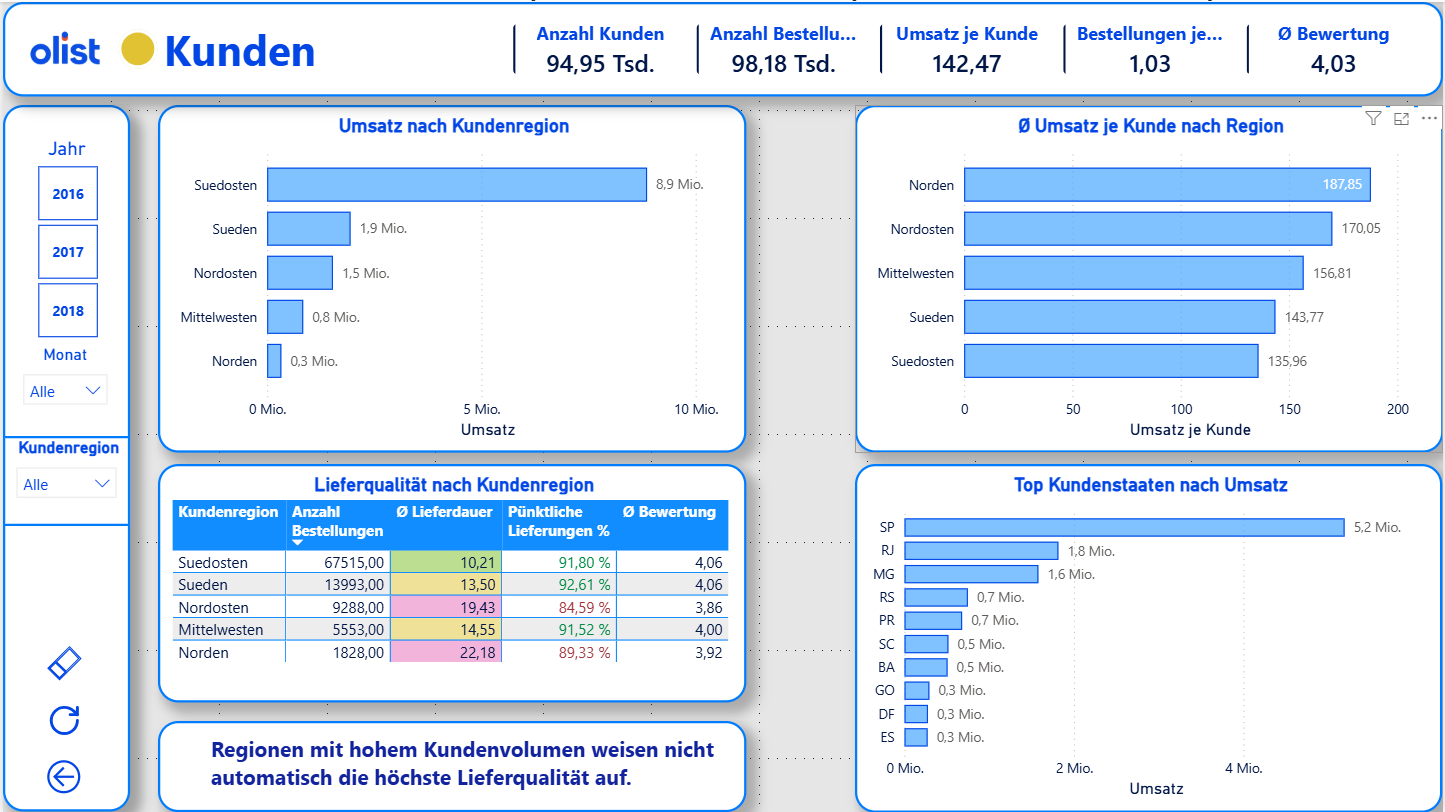

The page's visual inventory and layout, read from the dashboard file:
{"tool":"powerbi","page":{"name":"Kunden 3.2","canvas":[1280,720],"ordinal":7},"visuals":[{"type":"barChart","title":"Umsatz nach Kundenregion","fields":{"Category":["Dim_Kunden.Kundenregion"],"Y":["_Measures.Umsatz"]},"box":[137.6,91.7,522.7,309.3],"z":0},{"type":"shape","box":[0,91.6,113,627.9],"z":1000},{"type":"shape","box":[0,0,1280,83.7],"z":2000},{"type":"image","box":[23.2,19.9,64,43],"z":3000},{"type":"shape","box":[102.6,24.3,35.3,35.3],"z":4000},{"type":"cardVisual","title":"Umsatz","fields":{"Data":["_Measures.Anzahl Kunden","_Measures.Anzahl Bestellungen","_Measures.Umsatz je Kunde","_Measures.Bestellungen je Kunde","_Measures.AVG Bewertung"]},"box":[436.3,5.3,843.7,73.6],"z":5000},{"type":"actionButton","box":[33.5,668.5,44,40.5],"z":6000},{"type":"slicer","title":"Jahr","fields":{"Values":["Dim_Datum.Jahr"]},"box":[5,120,103,185],"z":7000},{"type":"image","box":[39.7,623.4,29.6,30.8],"z":8000},{"type":"actionButton","box":[34.5,567.7,40,40],"z":9000},{"type":"slicer","title":"Monat","fields":{"Values":["Dim_Datum.Monat"]},"box":[8.3,304.7,94.6,79.3],"z":10000},{"type":"slicer","title":"Kundenregion","fields":{"Values":["Dim_Kunden.customer_state"]},"box":[0,386,113,80],"z":11000},{"type":"barChart","title":"Ø Umsatz je Kunde nach Region","fields":{"Category":["Dim_Kunden.Kundenregion"],"Y":["_Measures.Umsatz je Kunde"]},"box":[757.3,91.7,522.7,309.3],"z":12000},{"type":"pivotTable","title":"Lieferqualität nach Kundenregion","fields":{"Values":["_Measures.Anzahl Bestellungen","_Measures.AVG Lieferdauer","_Measures.Pünktliche Lieferungen %","_Measures.AVG Bewertung"],"Rows":["Dim_Kunden.Kundenregion"]},"box":[137.3,410.7,522.7,212],"z":13000},{"type":"barChart","title":"Top Kundenstaaten nach Umsatz","fields":{"Y":["_Measures.Umsatz"],"Category":["Dim_Kunden.customer_state"]},"box":[757.7,410.3,522.3,309.7],"z":14000},{"type":"textbox","title":"• Unvollständige Startdaten aus 2016 • Kaum Einfluss auf allgemeine KPI und kategorische Visualisierungen • Relevanter Einfluss auf Zeitreihen- und Time-Intelligence-Analysen","box":[137.3,638.7,522.7,81.3],"z":15000}]}

Visuals, with their boxes in screenshot pixels (x1, y1, x2, y2), scaled from the page's 1280x720 canvas onto the 1445x812 screenshot:
"Umsatz nach Kundenregion" barChart: {"x1": 155, "y1": 103, "x2": 745, "y2": 452}
shape: {"x1": 0, "y1": 103, "x2": 128, "y2": 811}
shape: {"x1": 0, "y1": 0, "x2": 1444, "y2": 94}
image: {"x1": 26, "y1": 22, "x2": 98, "y2": 71}
shape: {"x1": 116, "y1": 27, "x2": 156, "y2": 67}
"Umsatz" cardVisual: {"x1": 493, "y1": 6, "x2": 1444, "y2": 89}
actionButton: {"x1": 38, "y1": 754, "x2": 87, "y2": 800}
"Jahr" slicer: {"x1": 6, "y1": 135, "x2": 122, "y2": 344}
image: {"x1": 45, "y1": 703, "x2": 78, "y2": 738}
actionButton: {"x1": 39, "y1": 640, "x2": 84, "y2": 685}
"Monat" slicer: {"x1": 9, "y1": 344, "x2": 116, "y2": 433}
"Kundenregion" slicer: {"x1": 0, "y1": 435, "x2": 128, "y2": 526}
"Ø Umsatz je Kunde nach Region" barChart: {"x1": 855, "y1": 103, "x2": 1444, "y2": 452}
"Lieferqualität nach Kundenregion" pivotTable: {"x1": 155, "y1": 463, "x2": 745, "y2": 702}
"Top Kundenstaaten nach Umsatz" barChart: {"x1": 855, "y1": 463, "x2": 1444, "y2": 811}
"• Unvollständige Startdaten aus 2016 • Kaum Einfluss auf allgemeine KPI und kategorische Visualisierungen • Relevanter Einfluss auf Zeitreihen- und Time-Intelligence-Analysen" textbox: {"x1": 155, "y1": 720, "x2": 745, "y2": 811}
